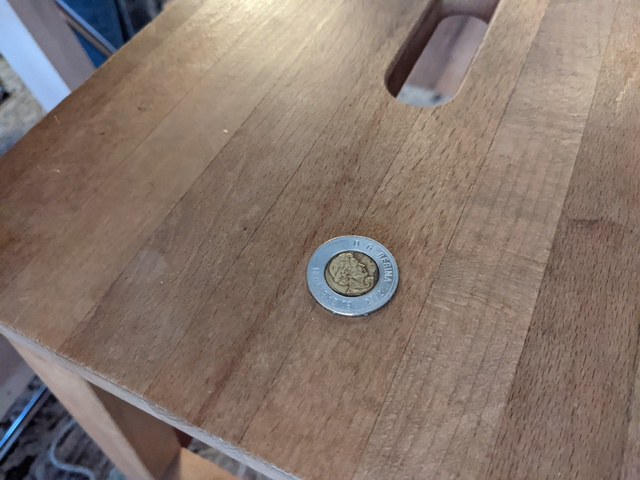twonie: (297, 223, 418, 321)
